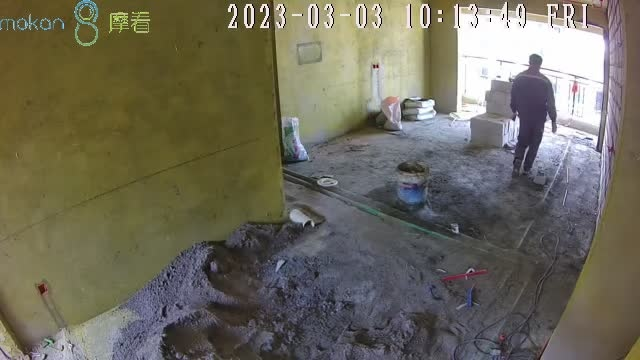people: (510, 54, 558, 177)
window: (456, 12, 602, 135)
